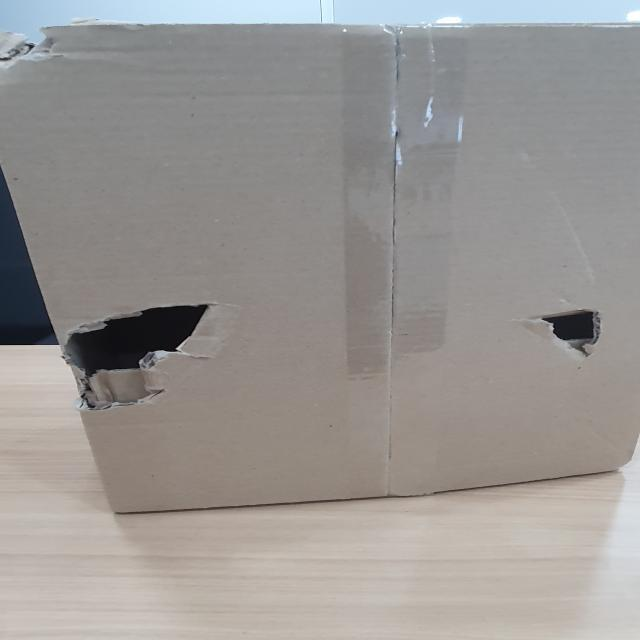hole: (50, 296, 221, 384), (517, 303, 606, 358)
